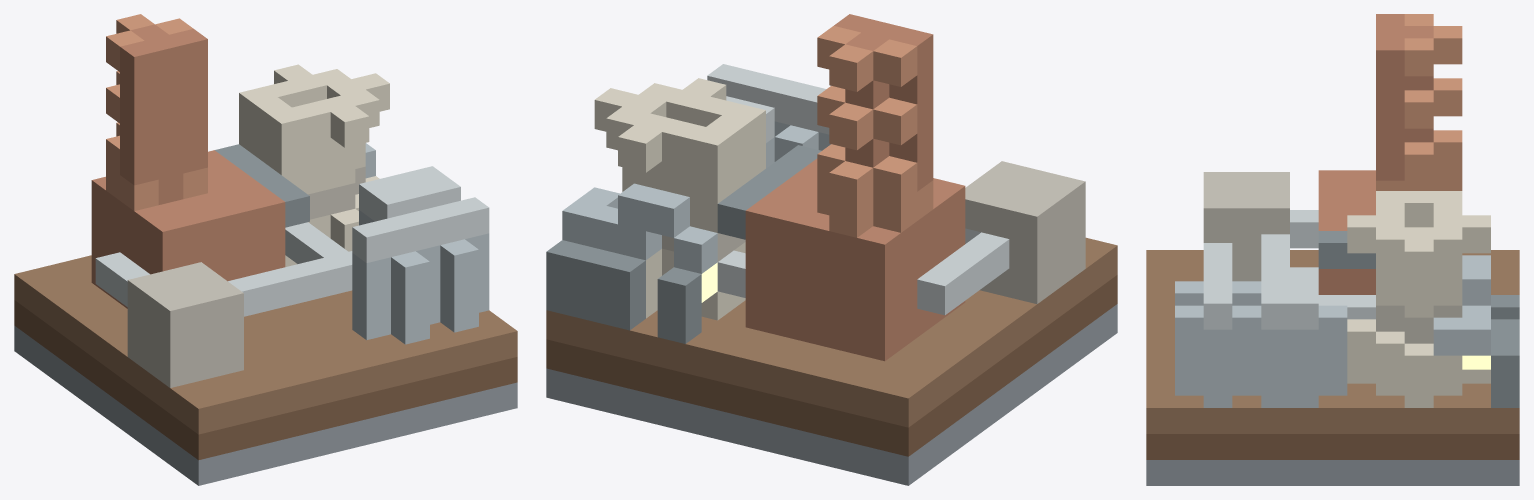
The model's file is energy.lod1.glb.
3 views of the same model, side by side, from view 1: azimuth 30°, elevation 25°; view 2: azimuth 150°, elevation 25°; view 3: azimuth 270°, elevation 25° (orthographic). The views are drawn at different scales.
Parts seen in each view (by area): view 1: VX_energy_LOD1; view 2: VX_energy_LOD1; view 3: VX_energy_LOD1.
Part boxes in pixels (x1=…): VX_energy_LOD1: x1=14, y1=14, x2=517, y2=485; VX_energy_LOD1: x1=546, y1=14, x2=1117, y2=485; VX_energy_LOD1: x1=1146, y1=14, x2=1519, y2=485.
Bounding box in the file's own units: 5.72 × 5.72 × 5.72.
